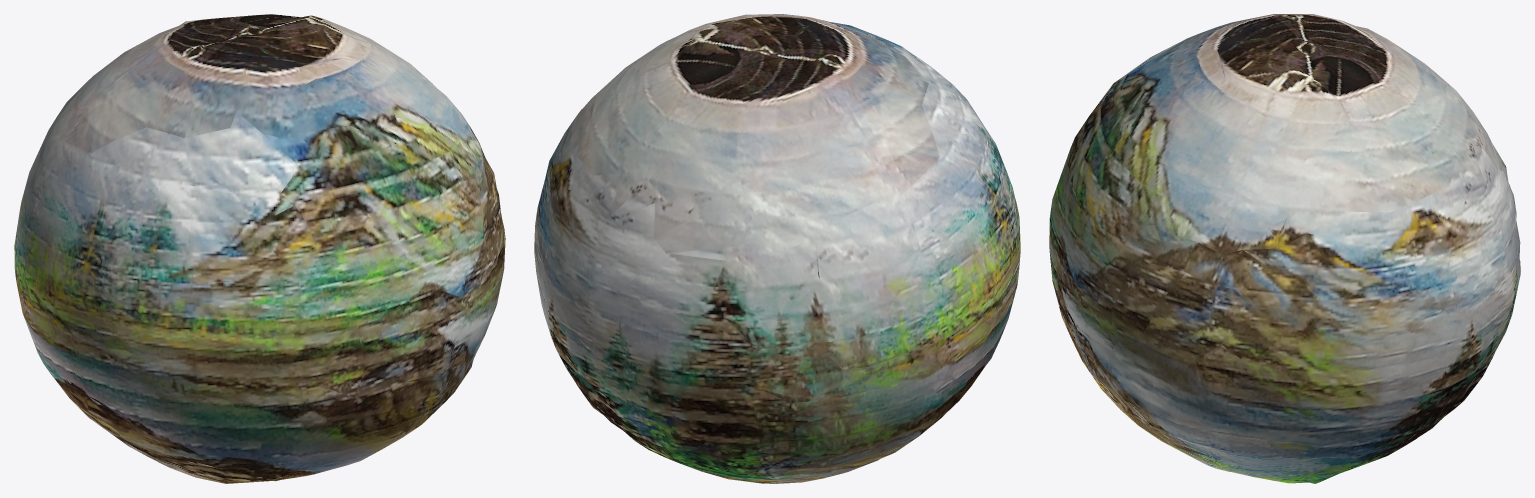
The model's file is AS3 Chanlim Landscape6.glb.
3 views of the same model, side by side, from view 1: azimuth 30°, elevation 25°; view 2: azimuth 150°, elevation 25°; view 3: azimuth 270°, elevation 25° (orthographic). The views are drawn at different scales.
Bounding box in the file's own units: 1000 × 945 × 992.
1 material, 1 textured.
